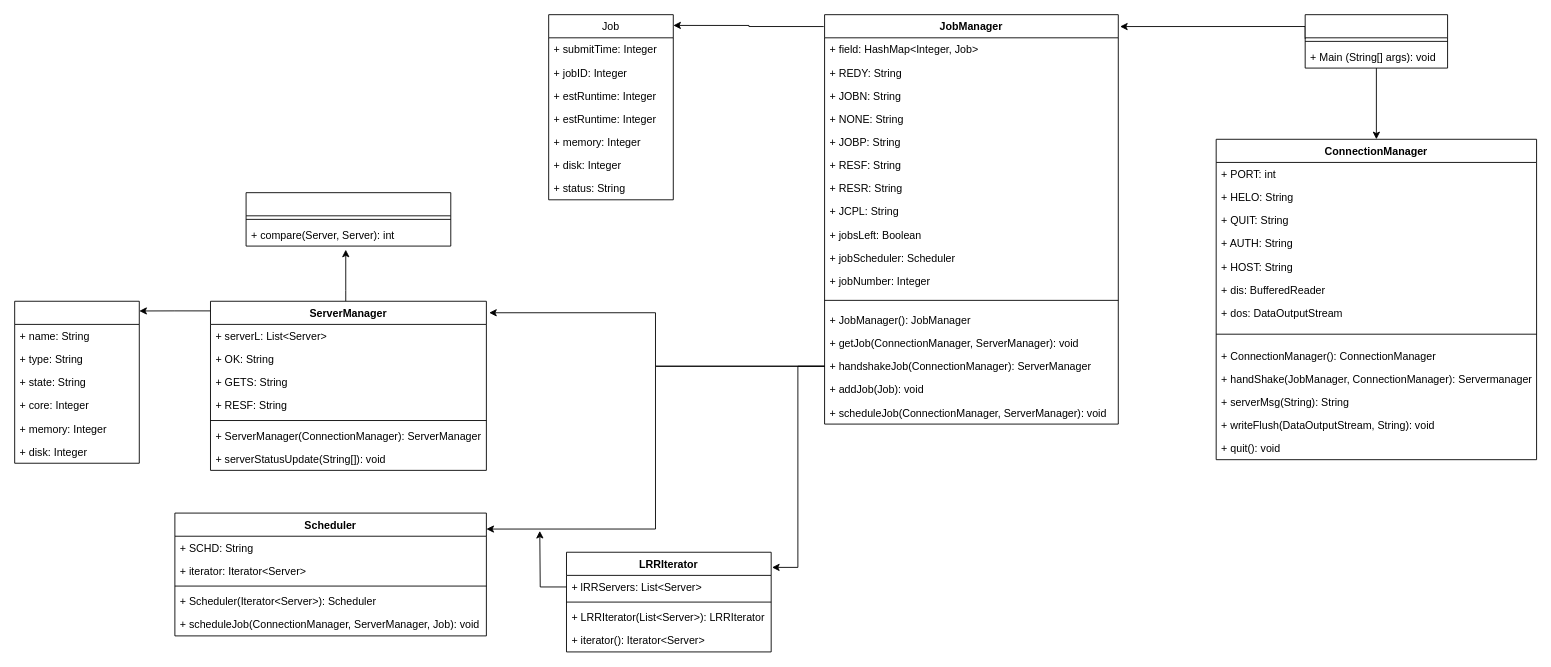
This 1551x667 diagram has some shape labels left out. The box of each missing label's shape, as (x1, y1, x2, y2) in pixels:
Cient: (1304, 14, 1448, 68)
Server: (14, 300, 139, 463)
ServerSortBySize: (245, 192, 451, 246)
